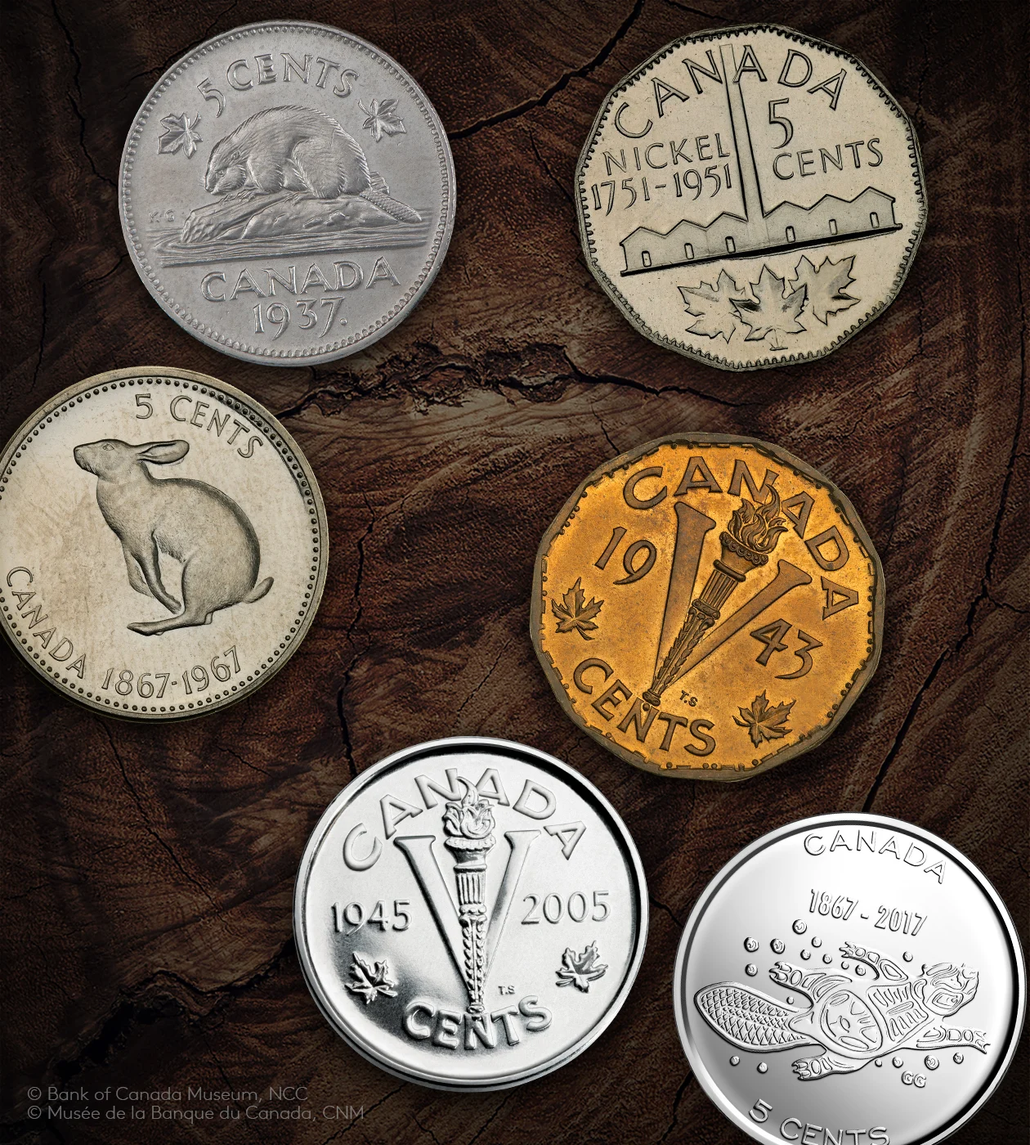coin: (294, 738, 647, 1090), (531, 433, 883, 779), (577, 25, 925, 369), (674, 813, 1024, 1144), (0, 367, 327, 720), (119, 21, 454, 364)
